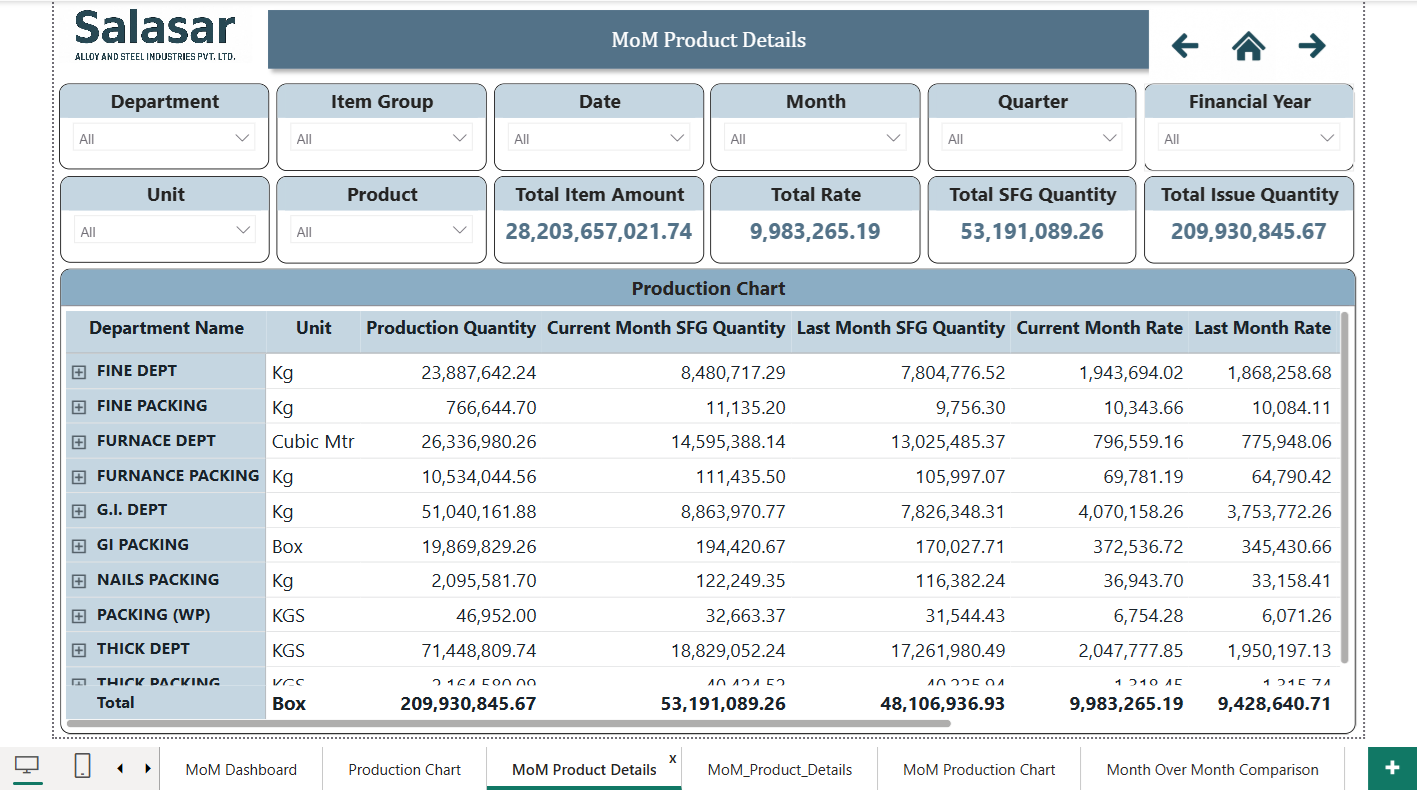

This screenshot's page, from the dashboard's own definition file:
{"tool":"powerbi","page":{"name":"MoM Product Details","canvas":[1280,720],"ordinal":7},"visuals":[{"type":"image","box":[1128.7,3.8,80,80],"z":0,"group":"g1"},{"type":"pivotTable","title":"Production Chart","fields":{"Rows":["Sheet 1.Department Name","Sheet 1.Product Name","Sheet 1.Product Specification","Sheet 1.Item Group Name","Sheet 1.Item Name"],"Values":["Min(Sheet 1.unit)","Sum(Sheet 1.Issue Quantity)","Sum(Sheet 1.SFG Quantity)","Sheet 1.Last Month SFG Quantity","Sum(Sheet 1.Rate)","Sheet 1.Last Month Rate","Sum(Sheet 1.ItemAmount)","Sheet 1.Last Month Item Amount"]},"box":[6.1,261.7,1266.9,455],"z":0},{"type":"image","box":[1066.2,3.8,80,80],"z":1000,"group":"g1"},{"type":"slicer","title":"Department","fields":{"Values":["Sheet 1.Department Name"]},"box":[4.9,81,205.4,84.4],"z":1000},{"type":"image","box":[1191.2,3.8,80,80],"z":2000,"group":"g1"},{"type":"slicer","title":"Item Group","fields":{"Values":["Sheet 1.Item Group Name"]},"box":[217.4,81,205.4,85.6],"z":2000},{"type":"slicer","title":"Date","fields":{"Values":["Sheet 1.Doc Date"]},"box":[429.9,81,205.4,85.6],"z":3000},{"type":"slicer","title":"Month","fields":{"Values":["Calendar.Month"]},"box":[642.5,81,205.4,85.6],"z":4000},{"type":"slicer","title":"Quarter","fields":{"Values":["Calendar.Qtr"]},"box":[855,81,204.2,85.6],"z":5000},{"type":"slicer","title":"Financial Year","fields":{"Values":["Calendar.Fiscal Year"]},"box":[1066.3,81,205.4,85.6],"z":6000},{"type":"slicer","title":"Unit","fields":{"Values":["Sheet 1.unit"]},"box":[6.1,171,205,85],"z":7000},{"type":"card","title":"Total Item Amount ","fields":{"Values":["Sum(Sheet 1.ItemAmount)"]},"box":[430.4,171,205.4,85.6],"z":8000},{"type":"card","title":"Total Rate","fields":{"Values":["Sum(Sheet 1.Rate)"]},"box":[642,171,205.4,85.6],"z":9000},{"type":"card","title":"Total SFG Quantity","fields":{"Values":["Sum(Sheet 1.SFG Quantity)"]},"box":[854.8,171,204.2,85.6],"z":10000},{"type":"card","title":"Total Issue Quantity","fields":{"Values":["Sum(Sheet 1.Issue Quantity)"]},"box":[1066.3,171,205.4,85.6],"z":11000},{"type":"slicer","title":"Product","fields":{"Values":["Sheet 1.Product Name"]},"box":[217.7,171,205.4,85.6],"z":12000},{"type":"shape","box":[200,0,880,75],"z":13000},{"type":"image","box":[0,0,199.3,66],"z":14000},{"type":"group","id":"g1","title":"Group 1","box":[1066.2,3.8,205,80],"z":15000}]}

Visuals, with their boxes on the page's 1280x720 design canvas (x1, y1, x2, y2). These are canvas units, not pixel positions in the 1417x790 screenshot, which may show the page scaled, cropped or inside an application window:
image: [1129,4,1209,84]
"Production Chart" pivotTable: [6,262,1273,717]
image: [1066,4,1146,84]
"Department" slicer: [5,81,210,165]
image: [1191,4,1271,84]
"Item Group" slicer: [217,81,423,167]
"Date" slicer: [430,81,635,167]
"Month" slicer: [642,81,848,167]
"Quarter" slicer: [855,81,1059,167]
"Financial Year" slicer: [1066,81,1272,167]
"Unit" slicer: [6,171,211,256]
"Total Item Amount " card: [430,171,636,257]
"Total Rate" card: [642,171,847,257]
"Total SFG Quantity" card: [855,171,1059,257]
"Total Issue Quantity" card: [1066,171,1272,257]
"Product" slicer: [218,171,423,257]
shape: [200,0,1080,75]
image: [0,0,199,66]
"Group 1" group: [1066,4,1271,84]
